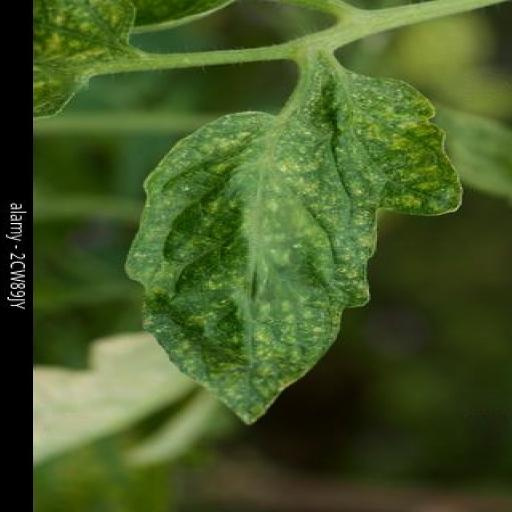disease_tomato: (119, 76, 467, 425)
